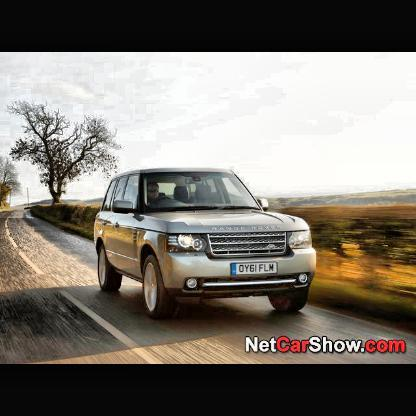Land Rover Range Rover SUV 2012: (92, 167, 320, 320)
